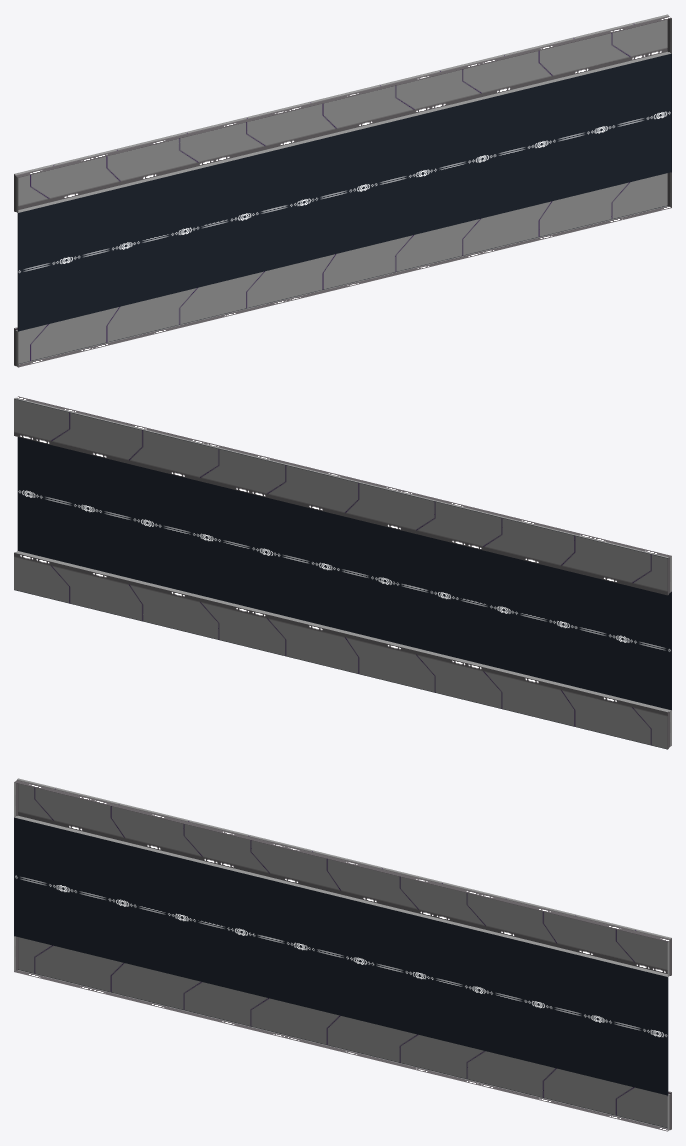
The model's file is SM_S_Road3.fbx.
The picture shows the model from 3 angles, top to bottom: view 1: azimuth 30°, elevation 25°; view 2: azimuth 150°, elevation 25°; view 3: azimuth 330°, elevation 25°; orthographic projection.
Visible parts, largest first — view 1: SM_S_Road3; view 2: SM_S_Road3; view 3: SM_S_Road3.
Part boxes in pixels (<box>): SM_S_Road3: <box>14,14,671,367</box>; SM_S_Road3: <box>14,396,671,749</box>; SM_S_Road3: <box>14,778,671,1131</box>.
Size of the model in its own units: 10553 by 2953 by 119.
